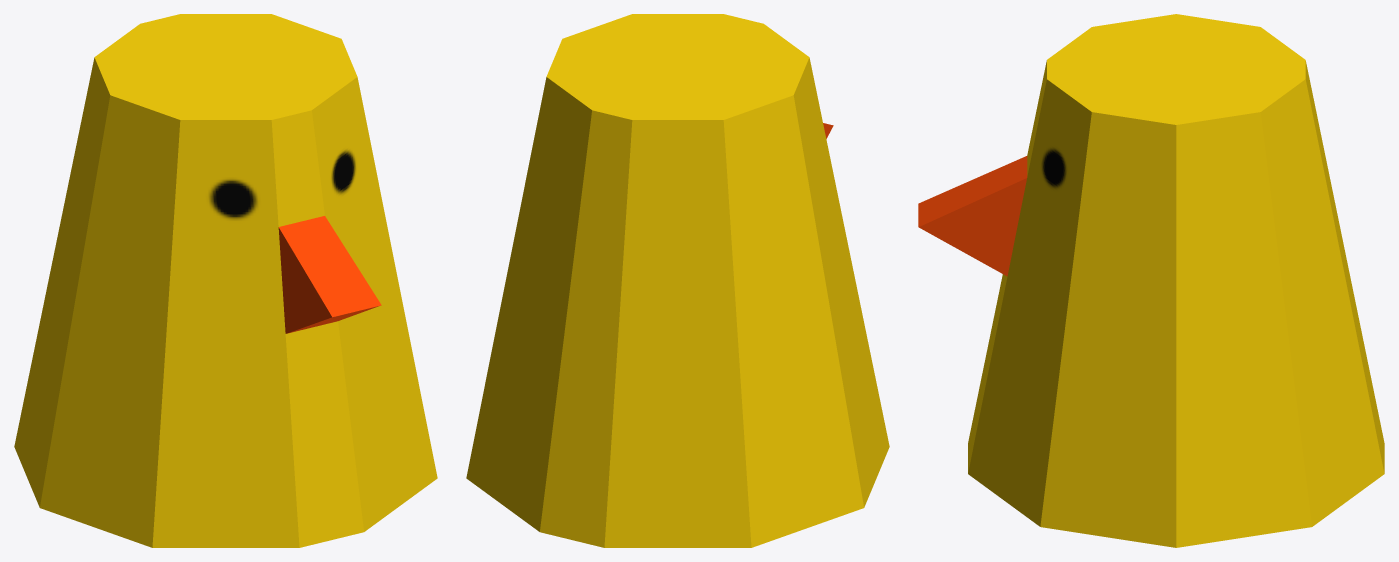
File: chick.FBX
3 views of the same model, side by side, from view 1: azimuth 30°, elevation 25°; view 2: azimuth 150°, elevation 25°; view 3: azimuth 270°, elevation 25° (orthographic).
Visible parts, largest first — view 1: Cylinder001; view 2: Cylinder001; view 3: Cylinder001.
Boxes of the visible parts, left/top/right/bottom form: Cylinder001: left=14, top=14, right=437, bottom=547; Cylinder001: left=466, top=14, right=889, bottom=547; Cylinder001: left=918, top=14, right=1384, bottom=547.
Bounding box in the file's own units: 83.58 × 84.84 × 92.11.
Materials: 1 (1 with a texture image).
